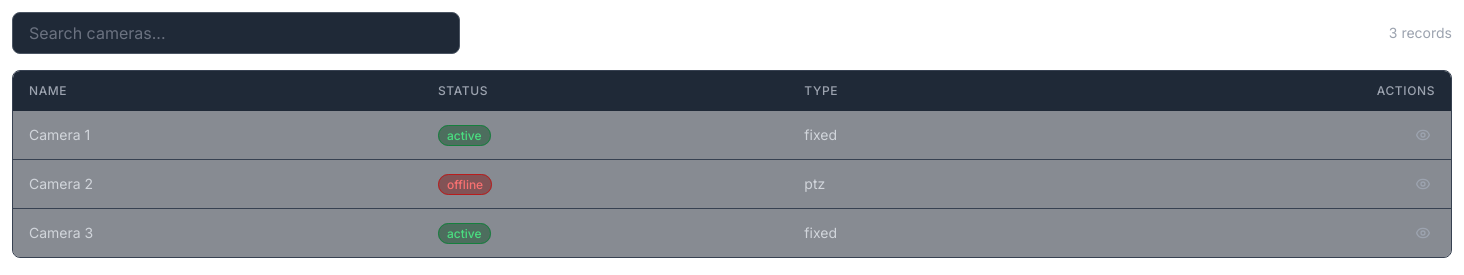
Test: AdminTable Component › filters data based on search input
The width and height of the screenshot is (1464, 275).
In the field with placeholder "Search cameras...": (236, 33) [12, 12, 460, 54], type "Camera 1"
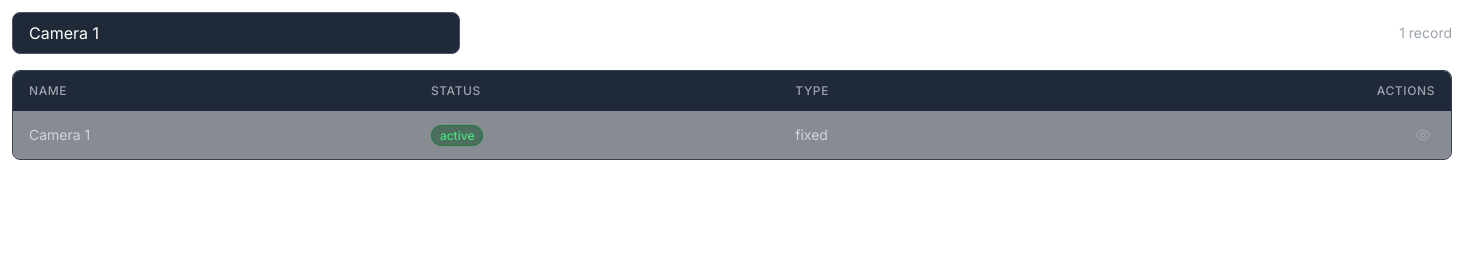
Expected: the text "Camera 1" is shown, [13, 111, 415, 159]
Expected: the text "Camera 2" is gone
